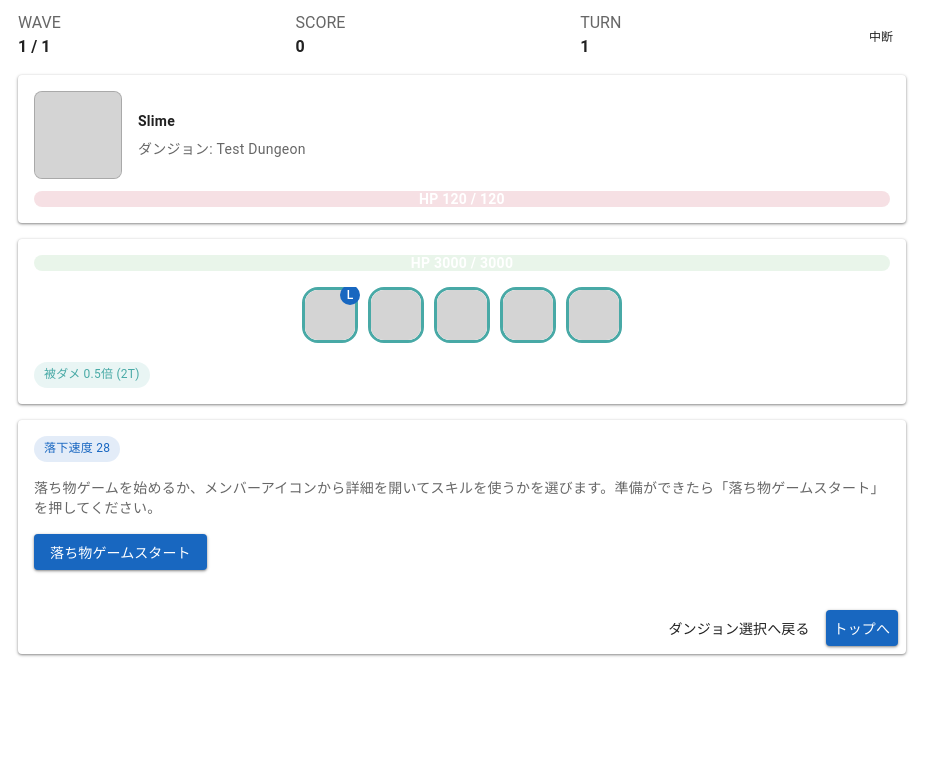
Scenario: BattleView › 一時停止ボタンで落ち物ゲームを停止し、再開できる
Click the button "落ち物ゲームスタート". click: (120, 552)
box: [34, 534, 207, 570]
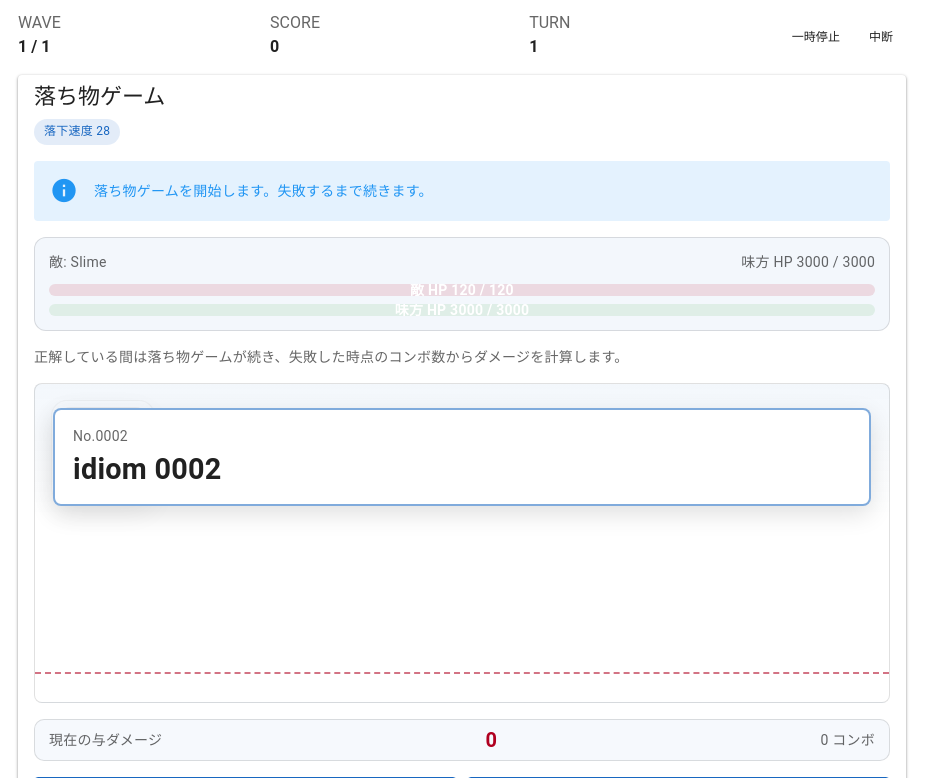
Click the button "一時停止". click: (816, 35)
box: [780, 21, 852, 49]
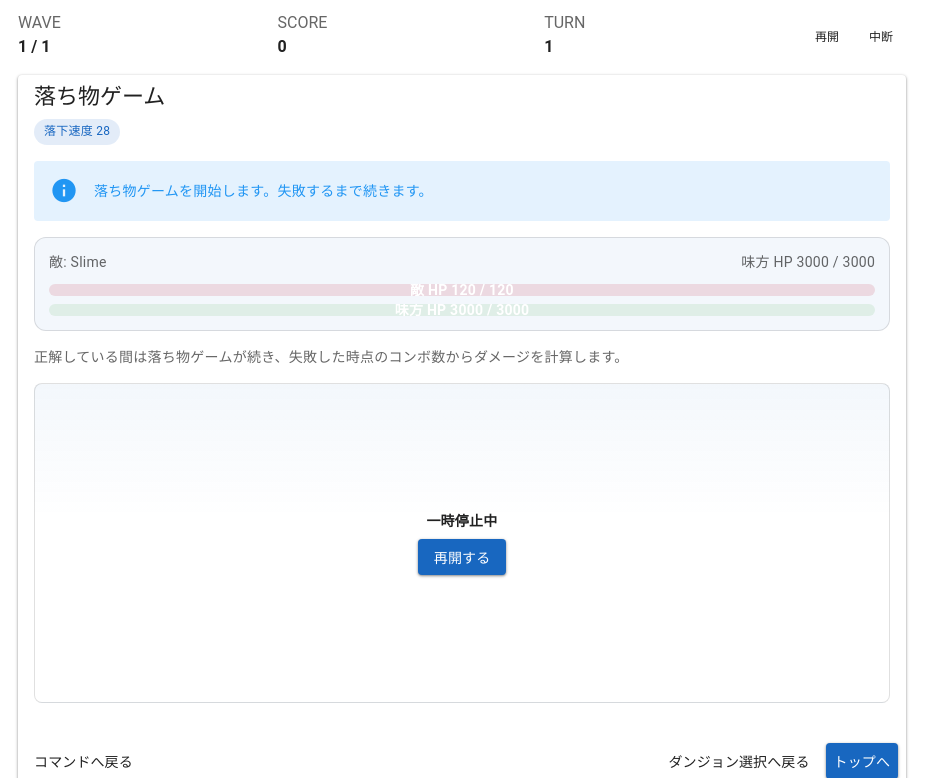
Now the text "再開する" is shown, box [434, 547, 490, 567]
Now the button "再開する" is shown
Click the button "再開する". click: (462, 557)
box: [418, 539, 506, 575]
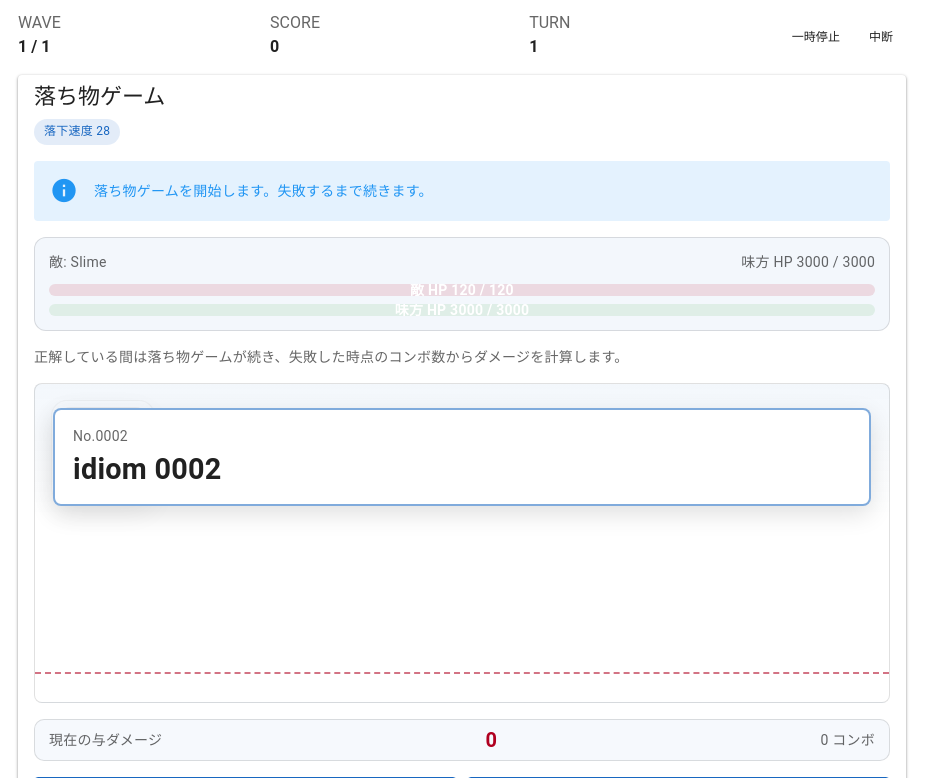
Now the text "再開する" is gone
